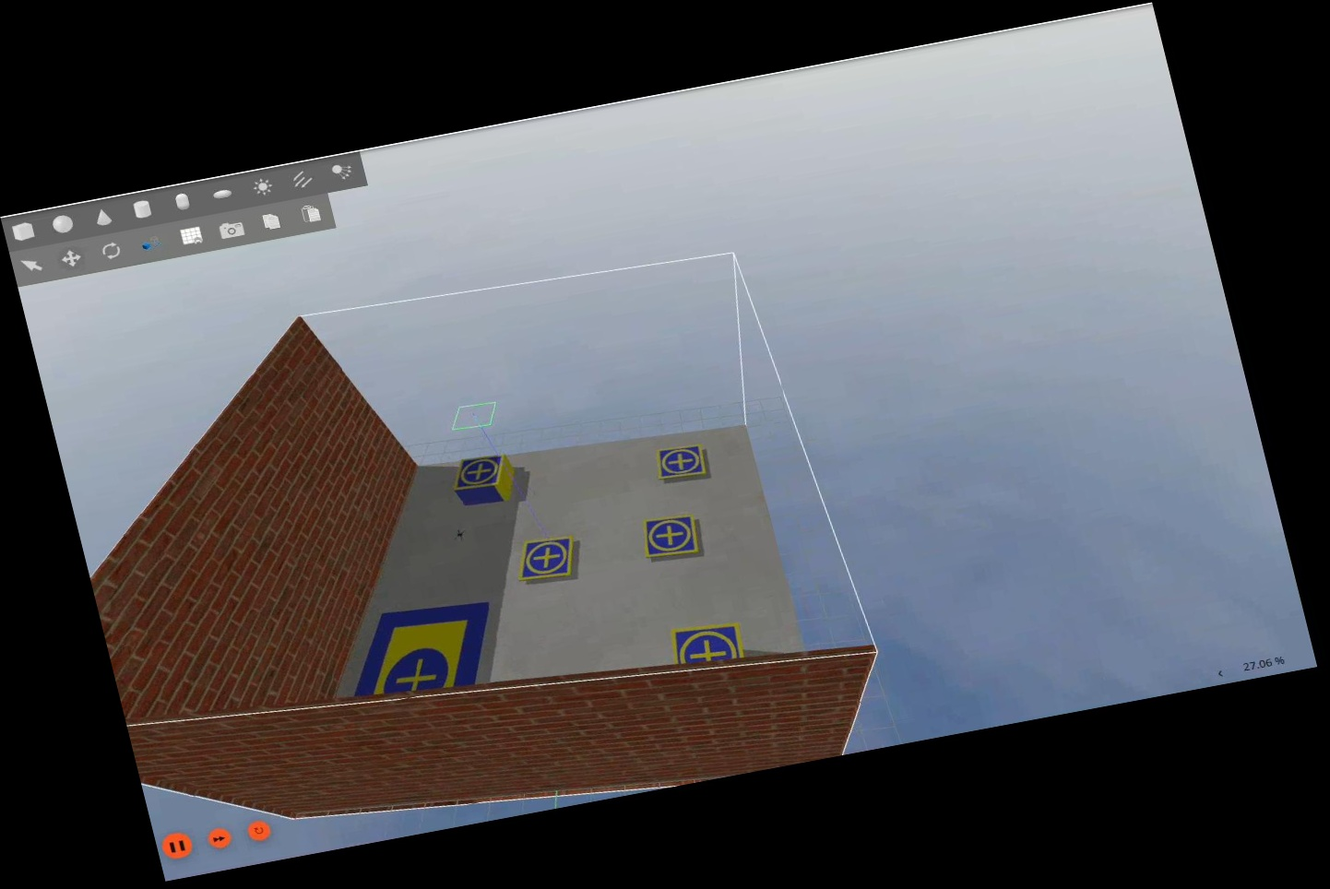large_base: (335, 593, 508, 706)
small_base: (669, 618, 747, 670), (511, 533, 583, 586), (638, 512, 703, 562), (447, 451, 513, 492), (651, 440, 711, 483)
